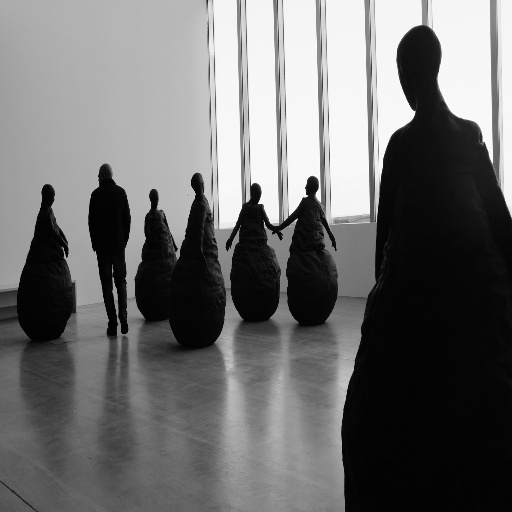hand: (330, 240, 337, 252), (271, 227, 281, 235), (225, 237, 231, 250), (63, 246, 69, 258), (173, 243, 178, 252), (278, 232, 283, 241)
